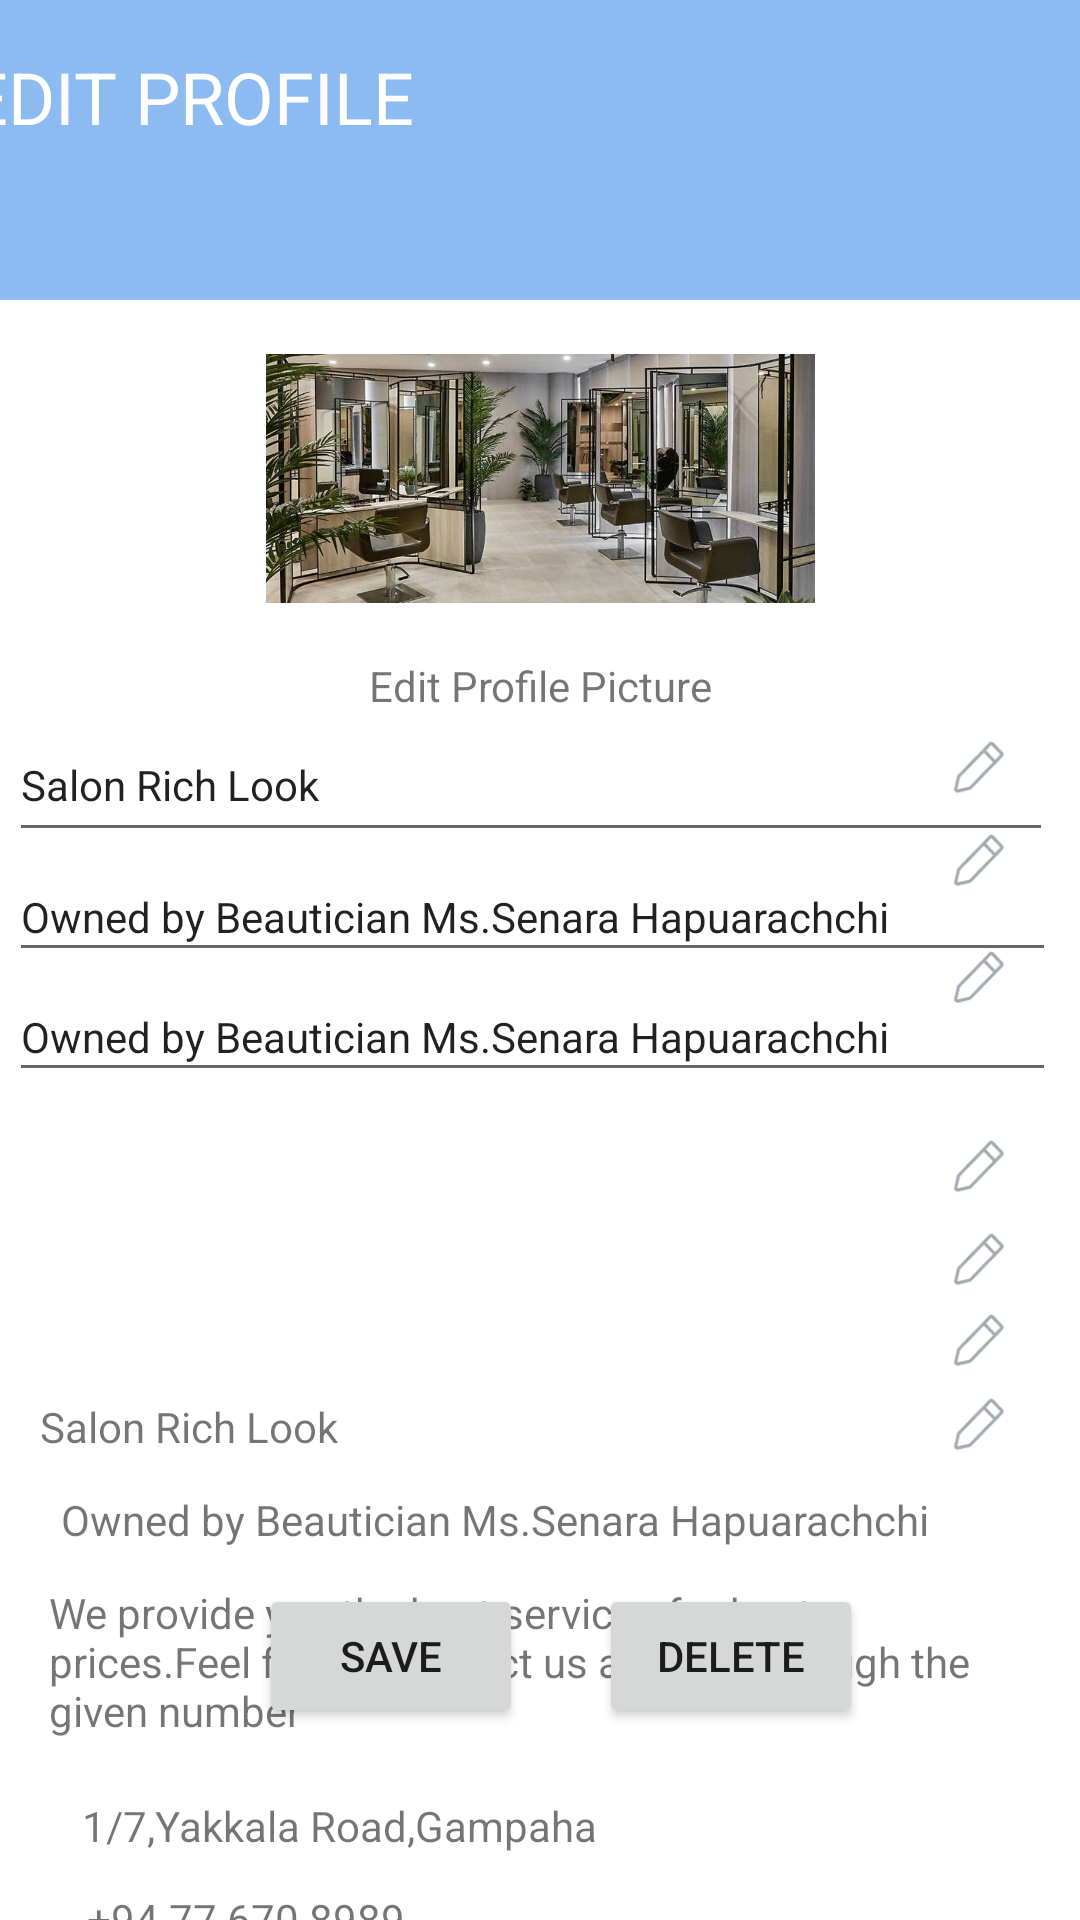

Point at icon controls on the screen. Image size 1080x1920, points as (x,y).
pen: (979,767), (979,860), (979,977), (979,1166), (979,1259), (979,1340), (979,1424)
